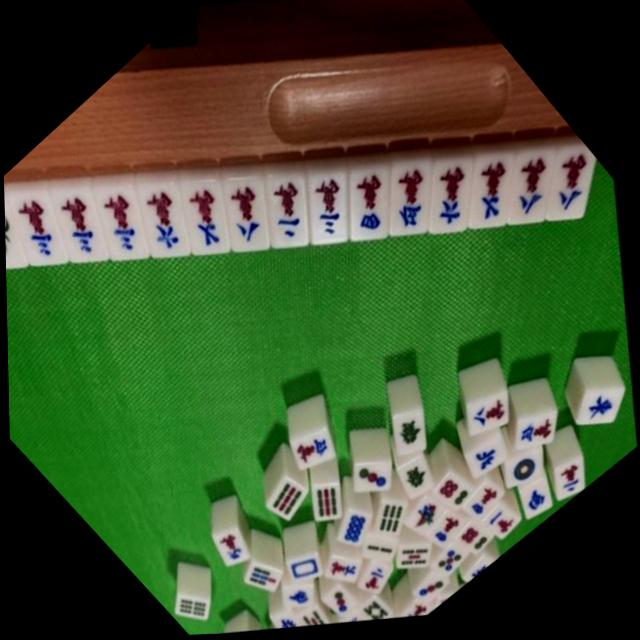bf2: (3, 189, 33, 272)
hdg: (400, 453, 438, 501), (397, 411, 431, 458)
hdw: (291, 556, 328, 584)
hwe: (581, 388, 628, 425)
hwn: (469, 433, 512, 480), (469, 556, 500, 583)
hws: (524, 478, 557, 520), (288, 587, 319, 608)
sb1: (410, 495, 450, 539)
sb2: (367, 533, 406, 564)
sb5: (402, 544, 437, 568)
sb6: (380, 499, 412, 536), (182, 596, 217, 623)
sb7: (250, 563, 288, 595)
sb8: (363, 597, 399, 622)
sb9: (272, 479, 313, 522), (317, 484, 347, 522)
sc1: (485, 503, 526, 541)
sc2: (266, 165, 313, 250), (559, 455, 589, 501), (363, 561, 398, 596)
sc3: (8, 185, 73, 271), (51, 181, 112, 266), (95, 178, 154, 264), (307, 161, 352, 246)
sc4: (350, 158, 393, 241), (467, 479, 510, 523), (431, 508, 473, 550)
sc5: (393, 153, 435, 237), (294, 428, 340, 473), (520, 412, 560, 448)
sc6: (137, 176, 193, 262), (432, 152, 477, 235)
sc7: (180, 174, 233, 258), (472, 148, 518, 230), (330, 556, 368, 585)
sc8: (223, 170, 273, 254), (510, 145, 558, 225), (549, 142, 597, 221), (469, 389, 512, 438)
sc9: (217, 528, 256, 569)
sd1: (511, 451, 545, 488)
sd3: (328, 586, 366, 621), (418, 573, 454, 605), (359, 462, 396, 492)
sd5: (435, 541, 476, 579)
sd6: (437, 473, 479, 512), (460, 521, 499, 556)
sd8: (342, 511, 378, 547)
